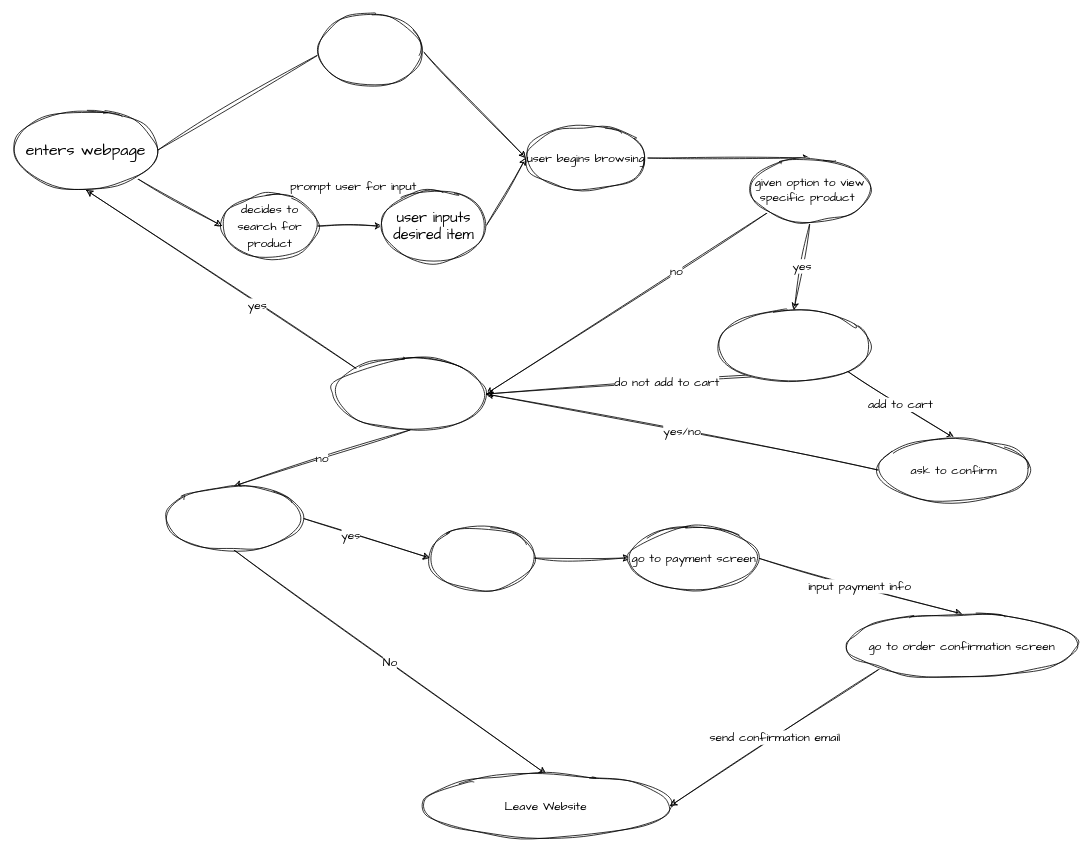
Some shapes in this 1092 by 852 pixel diagram are drawn without their labels. The shapes that lost their labels are listed below. From the top down, each one's centre as x and y in pixels, then its label:
At point (369, 49): "explore products on home page".
At point (793, 345): "open product webpgage".
At point (409, 393): "continue shopping?".
At point (233, 517): "ask if want to check out".
At point (481, 557): "go to view cart".
